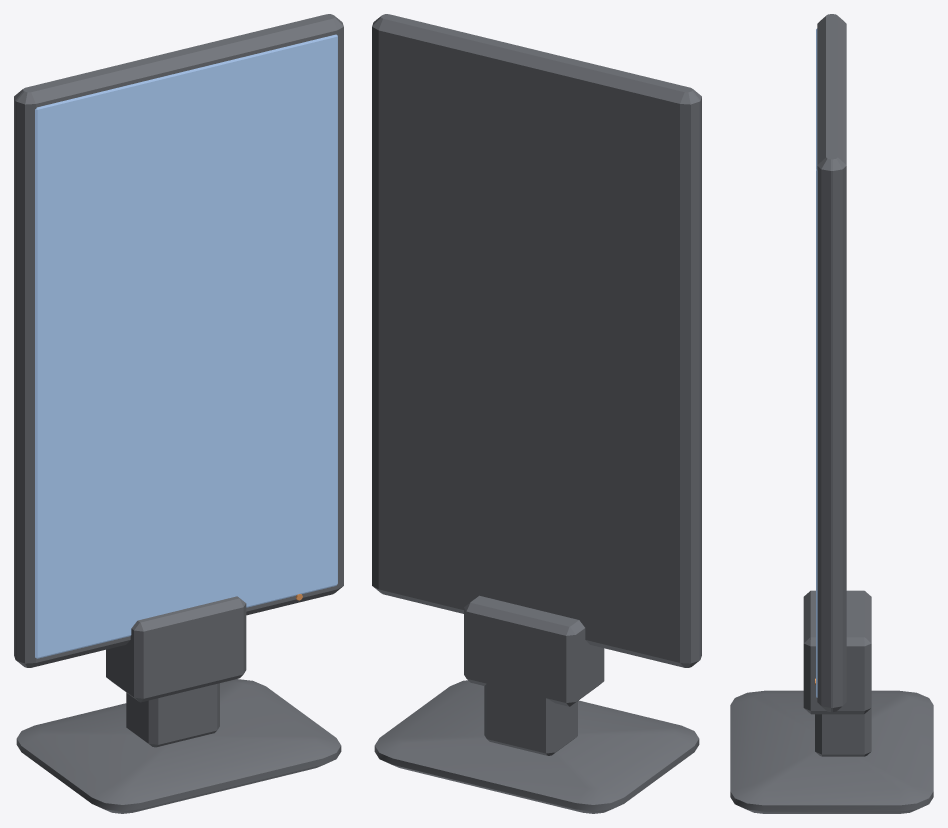
Rendered from computer.glb.
3 renders of one model, left to right at view 1: azimuth 30°, elevation 25°; view 2: azimuth 150°, elevation 25°; view 3: azimuth 270°, elevation 25°, orthographic. The views are drawn at different scales.
Visible parts, largest first — view 1: monitor-24-portrait; view 2: monitor-24-portrait; view 3: monitor-24-portrait.
Boxes of the visible parts, <box> form: monitor-24-portrait: <box>14,14,343,813</box>; monitor-24-portrait: <box>372,14,701,813</box>; monitor-24-portrait: <box>730,14,933,813</box>.
Bounding box in the file's own units: 0.32 × 0.66 × 0.18.
